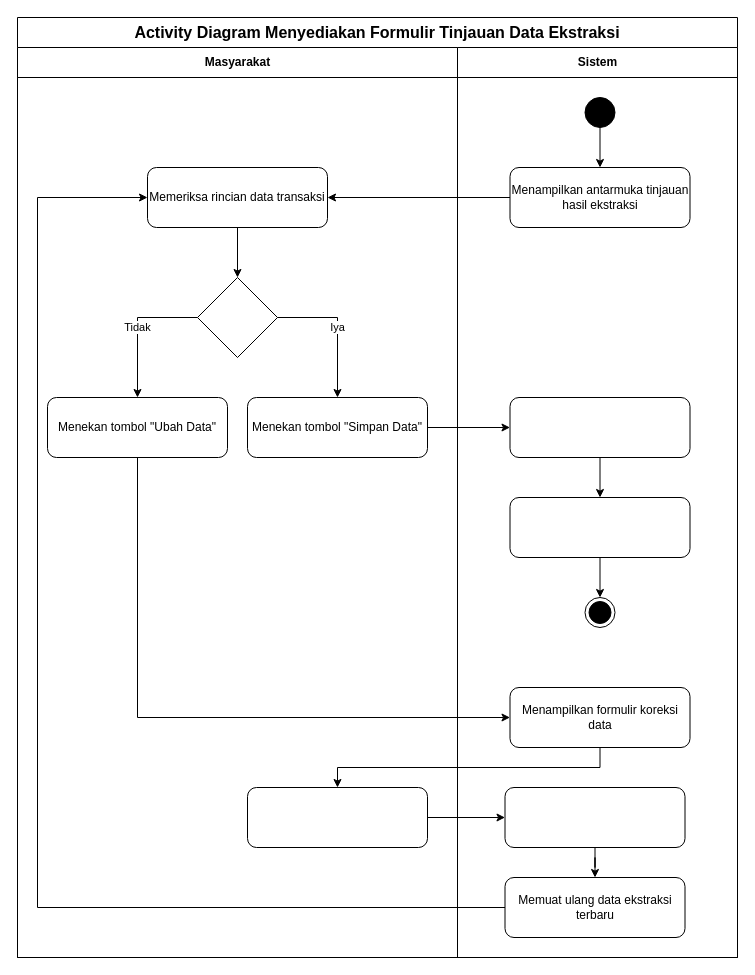
This 755x975 diagram has some shape labels left out. The centre of each missing label's shape, as x and y in pixels:
Menandai status pemindaian selesai: (599,427)
Mengarahkan ke halaman penyelesaian: (599,527)
Mengirimkan pembaruan data transaksi: (594,817)
Mengisi formulir koreksi & menyimpan: (337,817)
Valid?: (237,317)
